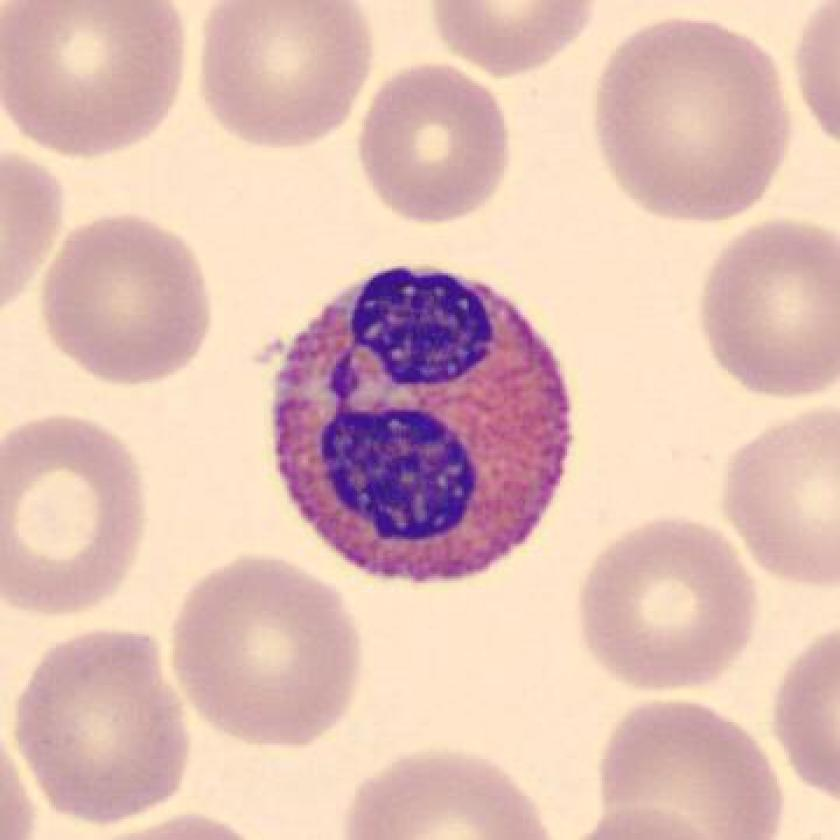eosinophil: (253, 256, 591, 607)
